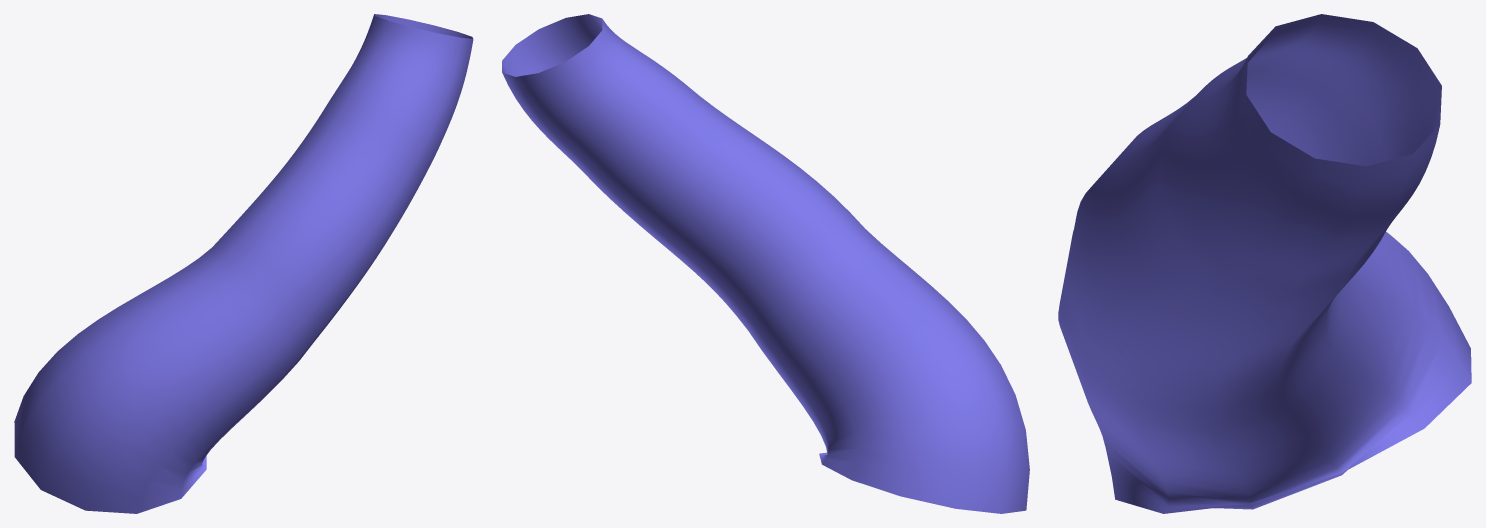
File: Left_brachiocephalic_vein.001_BezierCurve.342.glb
3 renders of one model, left to right at view 1: azimuth 30°, elevation 25°; view 2: azimuth 150°, elevation 25°; view 3: azimuth 270°, elevation 25°, orthographic. The views are drawn at different scales.
Parts seen in each view (by area): view 1: Left_brachiocephalic_vein.001_BezierCurve.342; view 2: Left_brachiocephalic_vein.001_BezierCurve.342; view 3: Left_brachiocephalic_vein.001_BezierCurve.342.
Boxes of the visible parts, <box> form: Left_brachiocephalic_vein.001_BezierCurve.342: <box>14,14,473,513</box>; Left_brachiocephalic_vein.001_BezierCurve.342: <box>502,14,1029,513</box>; Left_brachiocephalic_vein.001_BezierCurve.342: <box>1058,14,1471,513</box>.
Bounding box in the file's own units: 0.0548 × 0.0441 × 0.0222.
